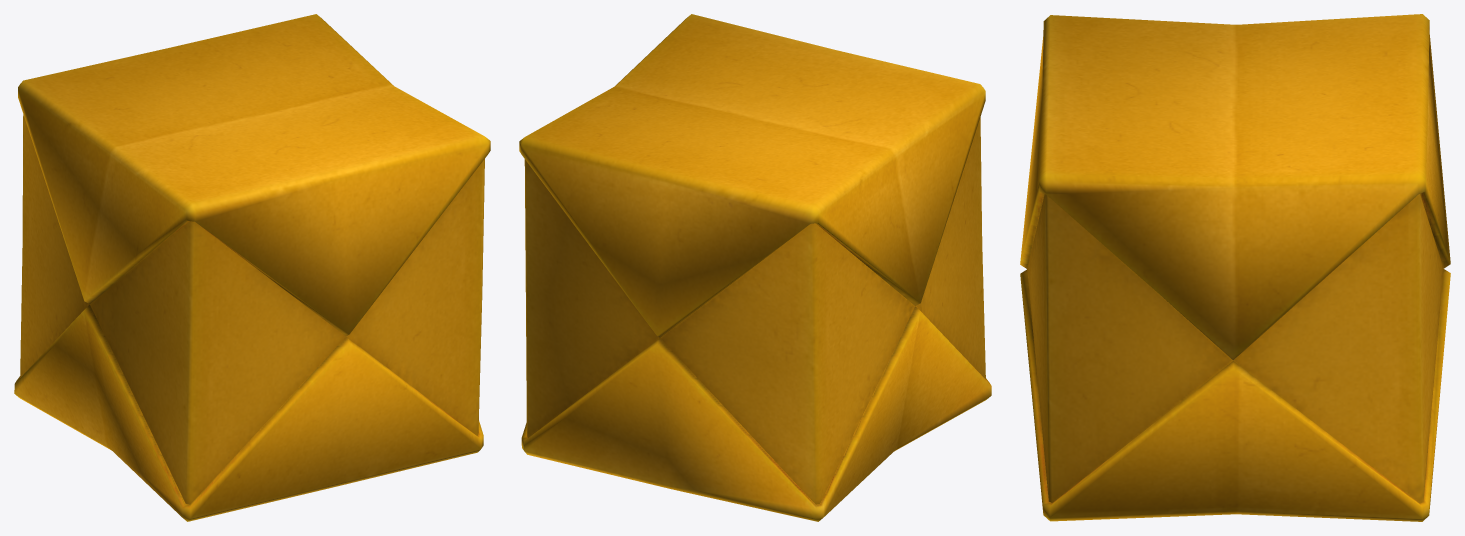
File: hl_column_paper_small.fbx
3 renders of one model, left to right at view 1: azimuth 30°, elevation 25°; view 2: azimuth 150°, elevation 25°; view 3: azimuth 270°, elevation 25°, orthographic. The views are drawn at different scales.
Parts seen in each view (by area): view 1: hl_column_paper_small; view 2: hl_column_paper_small; view 3: hl_column_paper_small.
Boxes of the visible parts, box(x1,y1,x2,y2) form: hl_column_paper_small: box(14, 14, 490, 521); hl_column_paper_small: box(519, 14, 991, 521); hl_column_paper_small: box(1020, 14, 1450, 521).
Size of the model in its own units: 11.31 by 10.23 by 11.31.
